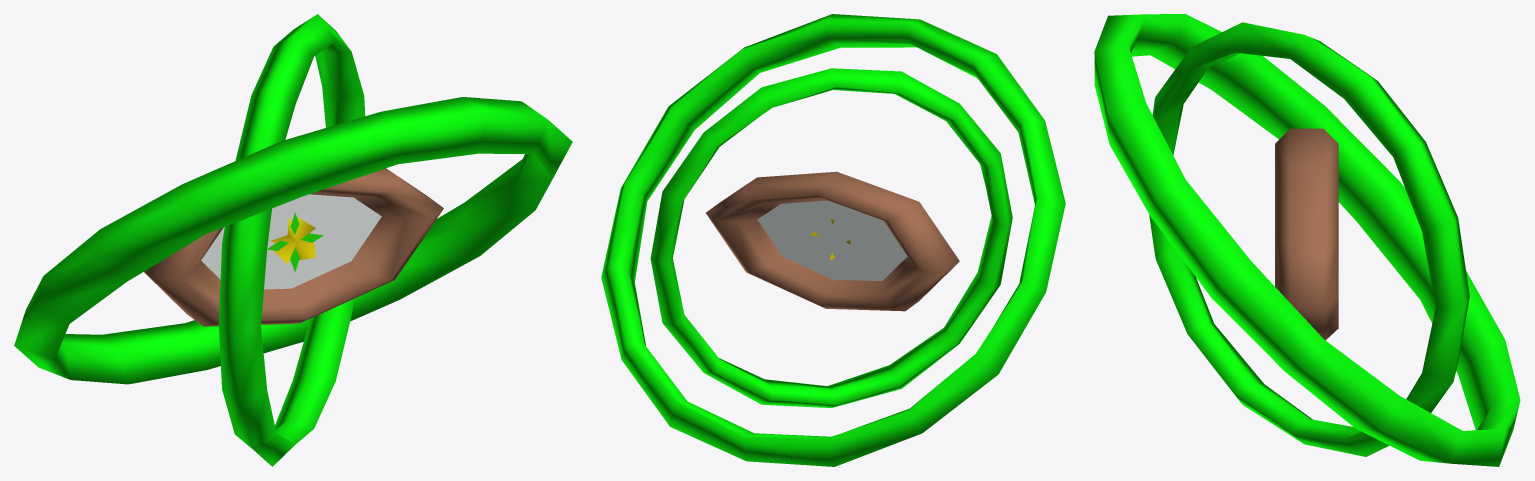
File: cursor.fbx
3 renders of one model, left to right at view 1: azimuth 30°, elevation 25°; view 2: azimuth 150°, elevation 25°; view 3: azimuth 270°, elevation 25°, orthographic. The views are drawn at different scales.
Visible parts, largest first — view 1: ring -outer, ring - inner, eye, pupil; view 2: ring -outer, eye, ring - inner; view 3: ring -outer, ring - inner, eye.
Boxes of the visible parts, left/top/right/bottom form: ring -outer: left=14, top=97, right=572, bottom=384; ring - inner: left=218, top=14, right=365, bottom=466; eye: left=144, top=168, right=443, bottom=326; pupil: left=267, top=212, right=323, bottom=271; ring -outer: left=601, top=14, right=1065, bottom=466; eye: left=706, top=171, right=959, bottom=311; ring - inner: left=650, top=68, right=1012, bottom=407; ring -outer: left=1094, top=14, right=1520, bottom=466; ring - inner: left=1149, top=22, right=1469, bottom=456; eye: left=1275, top=128, right=1338, bottom=340.
Size of the model in its own units: 0.9125 by 0.6964 by 0.6565.
